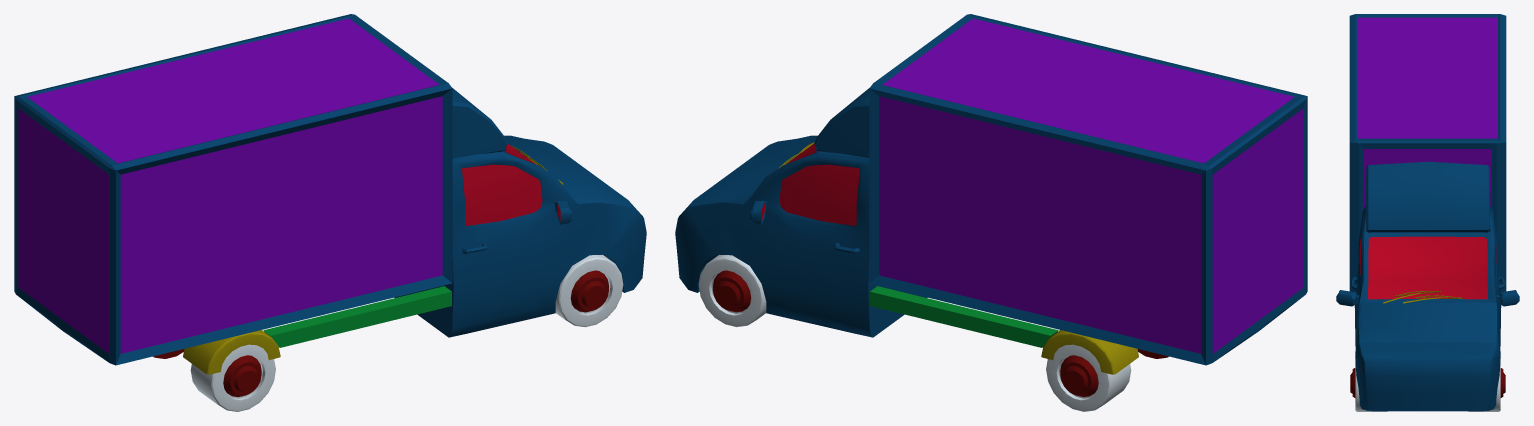
Rendered from Truck.FBX.
3 renders of one model, left to right at view 1: azimuth 30°, elevation 25°; view 2: azimuth 150°, elevation 25°; view 3: azimuth 270°, elevation 25°, orthographic. The views are drawn at different scales.
Visible parts, largest first — view 1: Plane012; view 2: Plane012; view 3: Plane012.
Part boxes in pixels (left/top/right/bottom): Plane012: left=14, top=14, right=646, bottom=411; Plane012: left=675, top=14, right=1307, bottom=411; Plane012: left=1336, top=14, right=1519, bottom=411.
Size of the model in its own units: 247 by 120 by 93.27.
